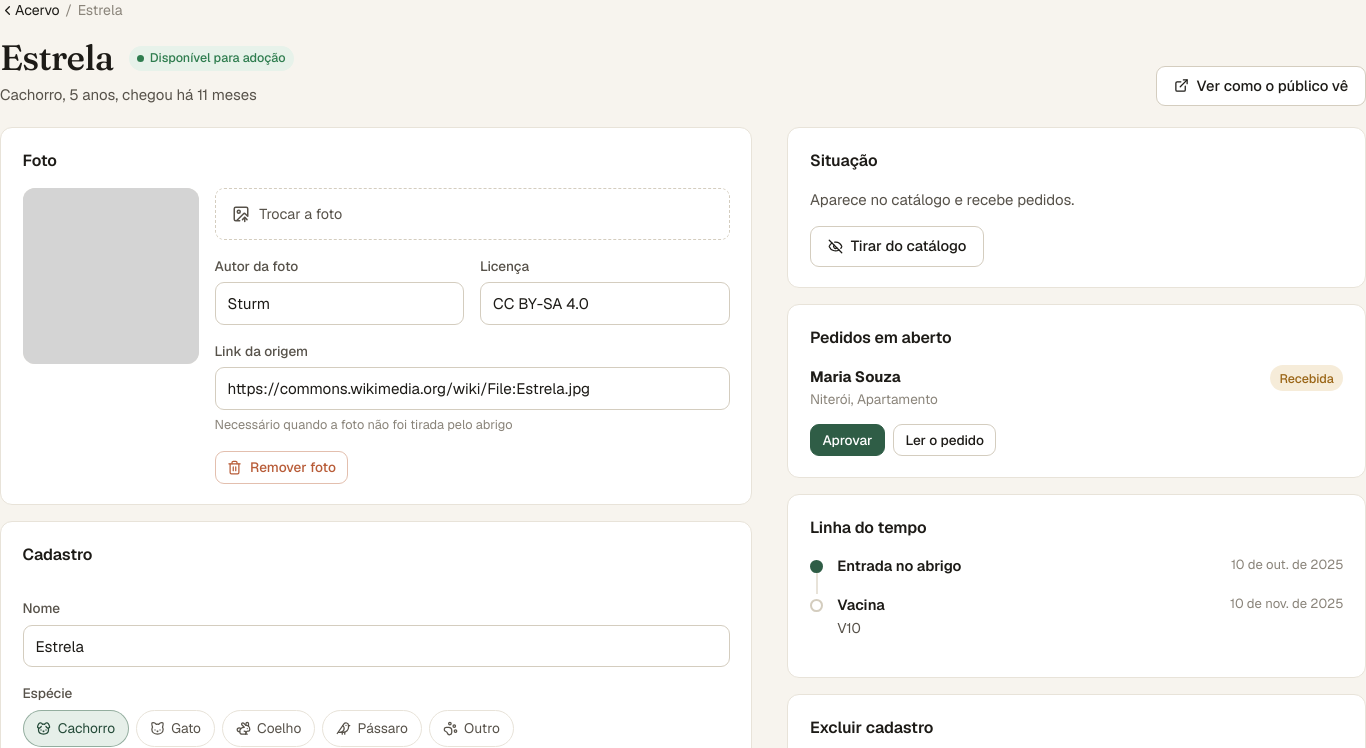
it: gerenciar animal › mostra falha de ação que não veio da API
Click the button "Tirar do catálogo" at [897, 246], box [810, 226, 984, 267]
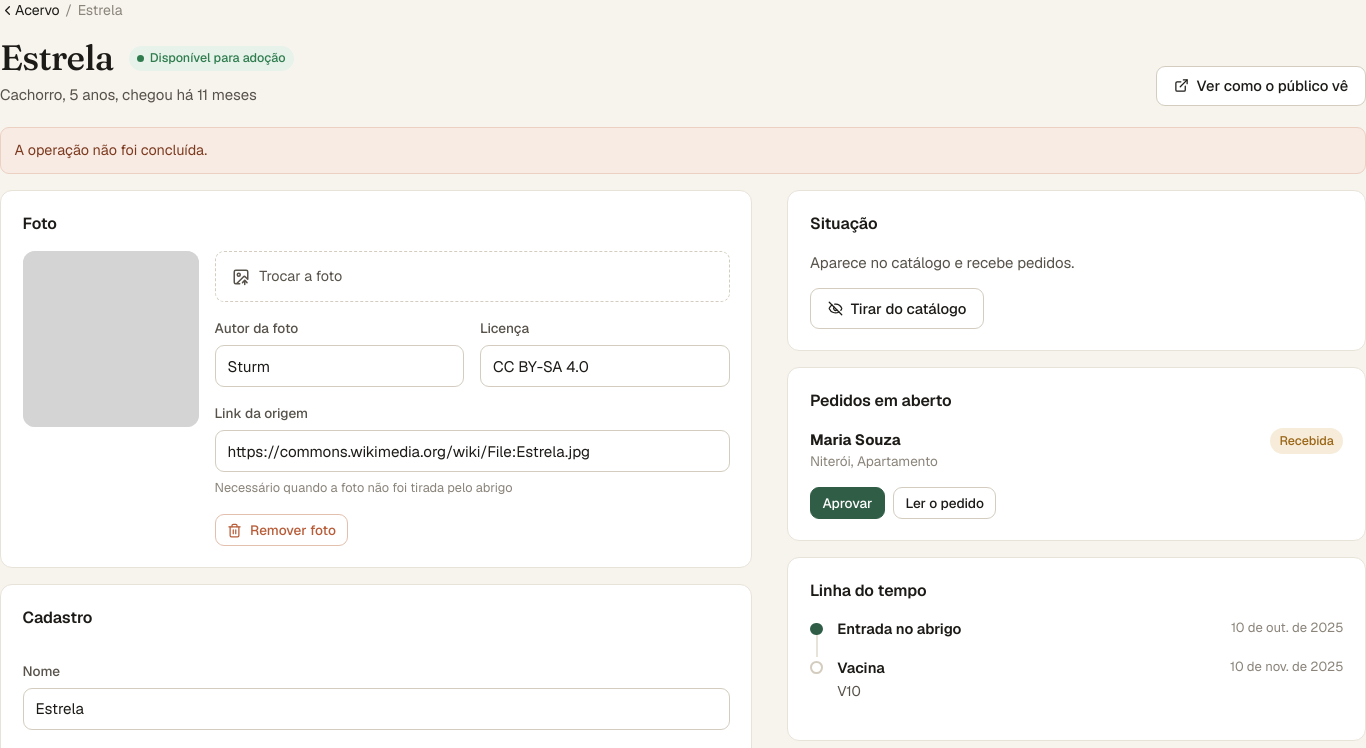
Check: the text "A operação não foi concluída." is shown, box [0, 127, 1365, 174]
